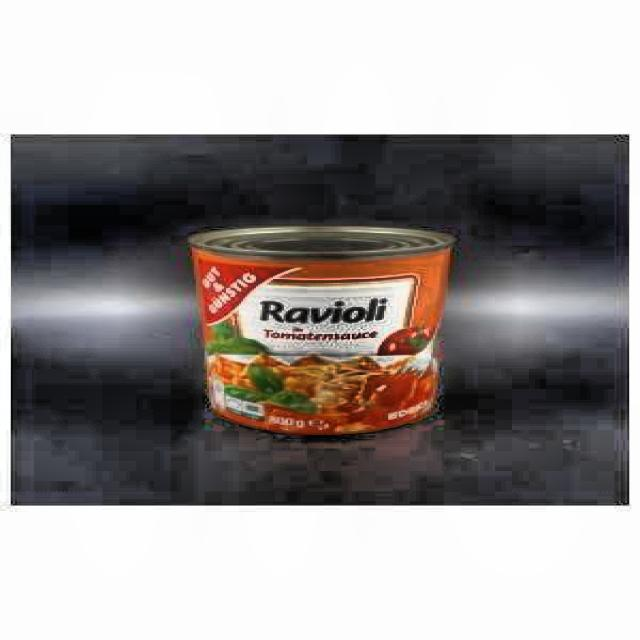Cans: (173, 205, 464, 450)
